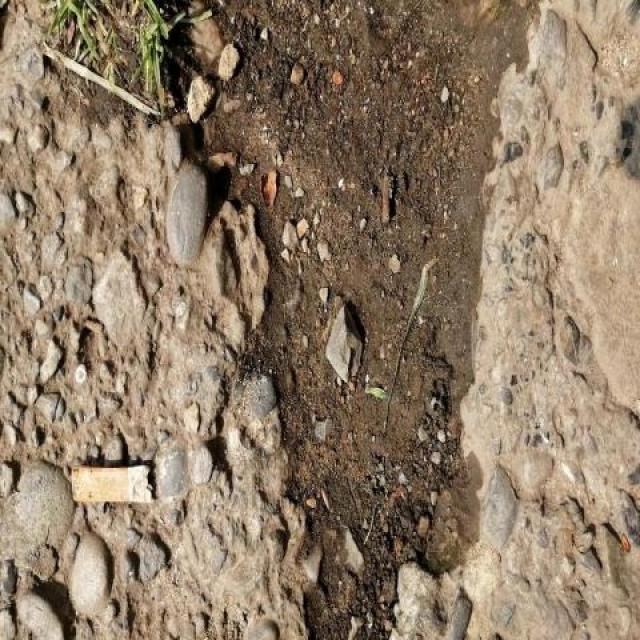non-organic waste: (69, 461, 158, 508)
